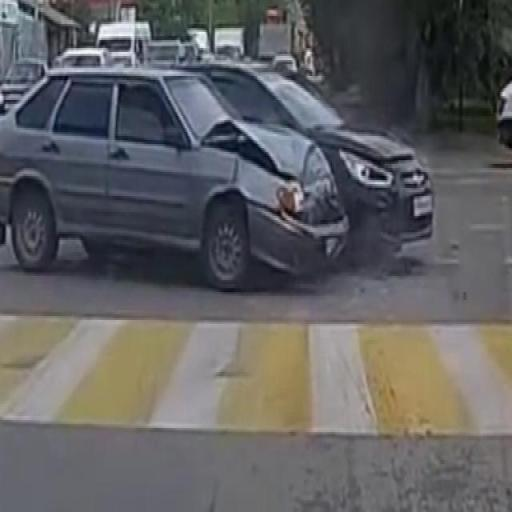小汽车撞小汽车: (0, 66, 434, 287)
